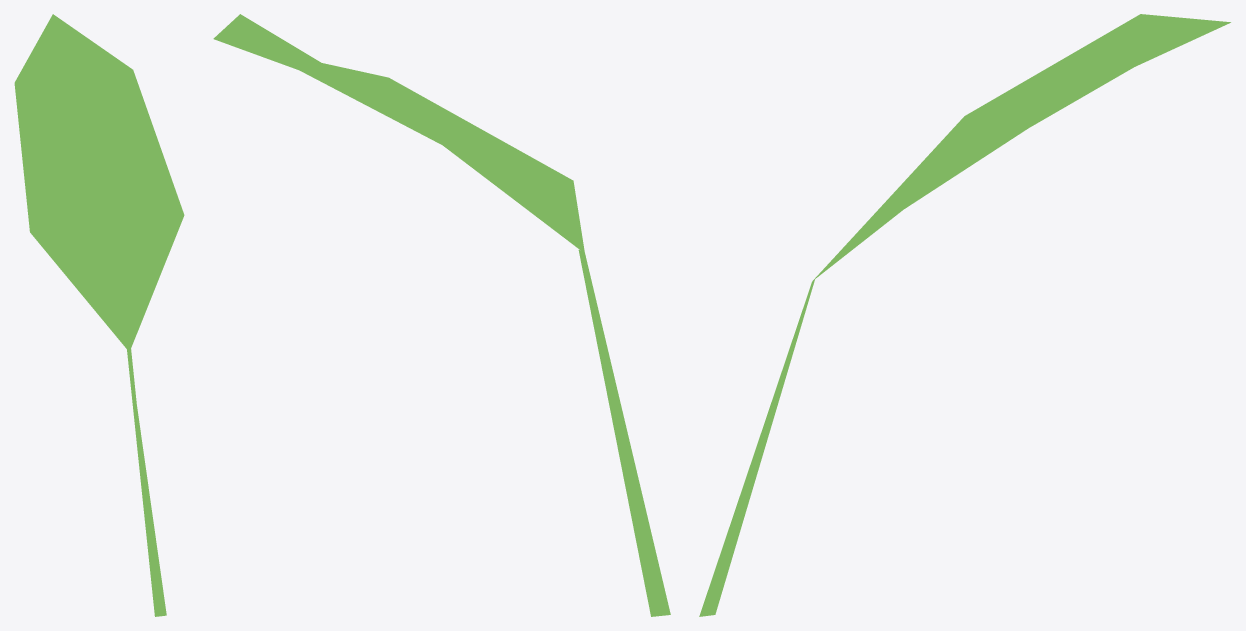
The model's file is Plant_j_OneS_06.fbx.
The picture shows the model from 3 angles, left to right: view 1: azimuth 30°, elevation 25°; view 2: azimuth 150°, elevation 25°; view 3: azimuth 270°, elevation 25°; orthographic projection. The views are drawn at different scales.
Parts seen in each view (by area): view 1: Plant_j_OneS_06; view 2: Plant_j_OneS_06; view 3: Plant_j_OneS_06.
Boxes of the visible parts, left/top/right/bottom form: Plant_j_OneS_06: left=14, top=14, right=184, bottom=616; Plant_j_OneS_06: left=213, top=14, right=670, bottom=616; Plant_j_OneS_06: left=699, top=14, right=1230, bottom=616.
Size of the model in its own units: 0.091 by 0.263 by 0.197.
